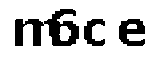6: (48, 4, 82, 52)
c: (84, 15, 108, 48)
e: (116, 16, 148, 52)
m: (9, 16, 59, 49)
